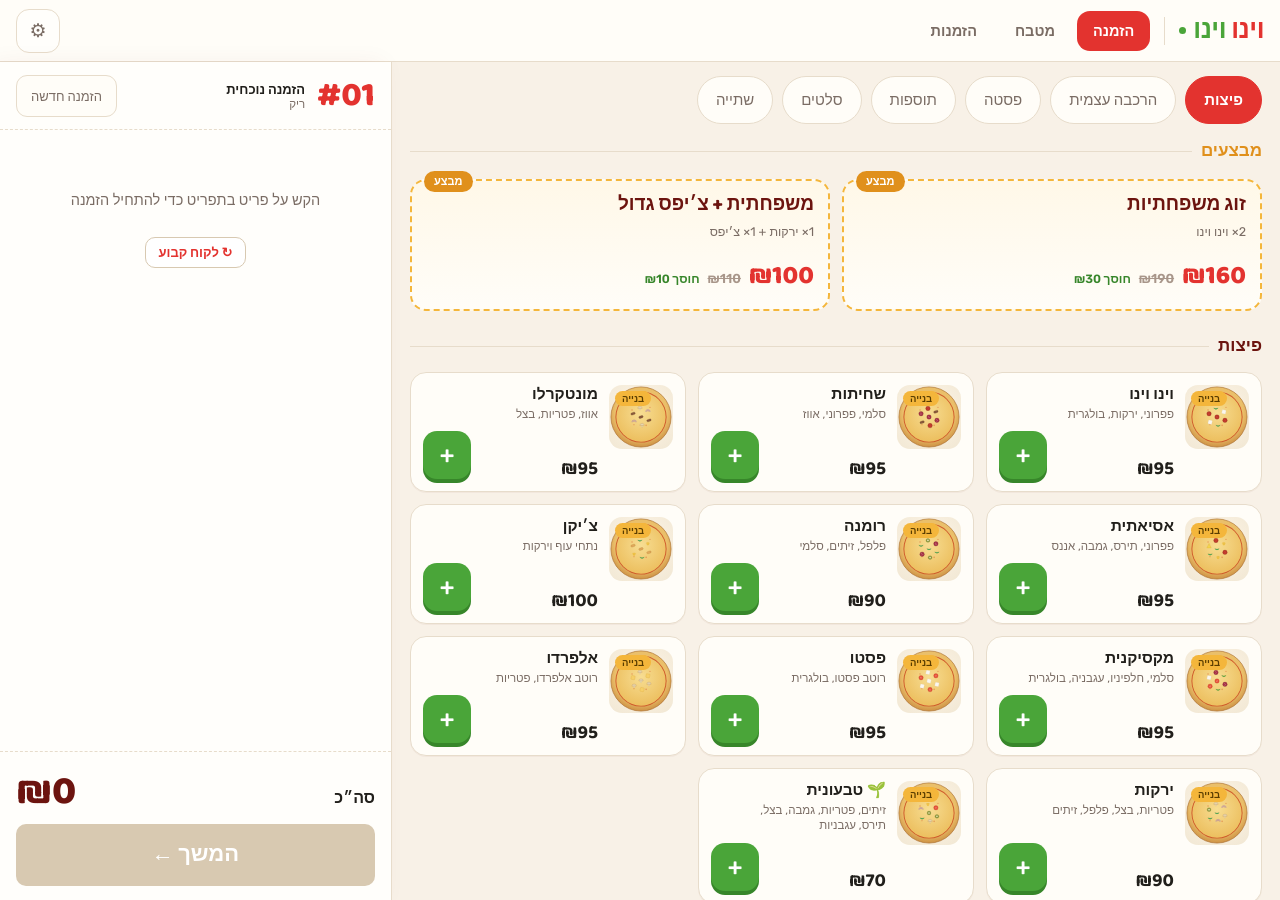
Test: quantity, merge and remove with undo › steps quantity up and down
This screenshot has width=1280, height=900.
Click the button "שתייה": click(735, 100) [697,76,773,124]
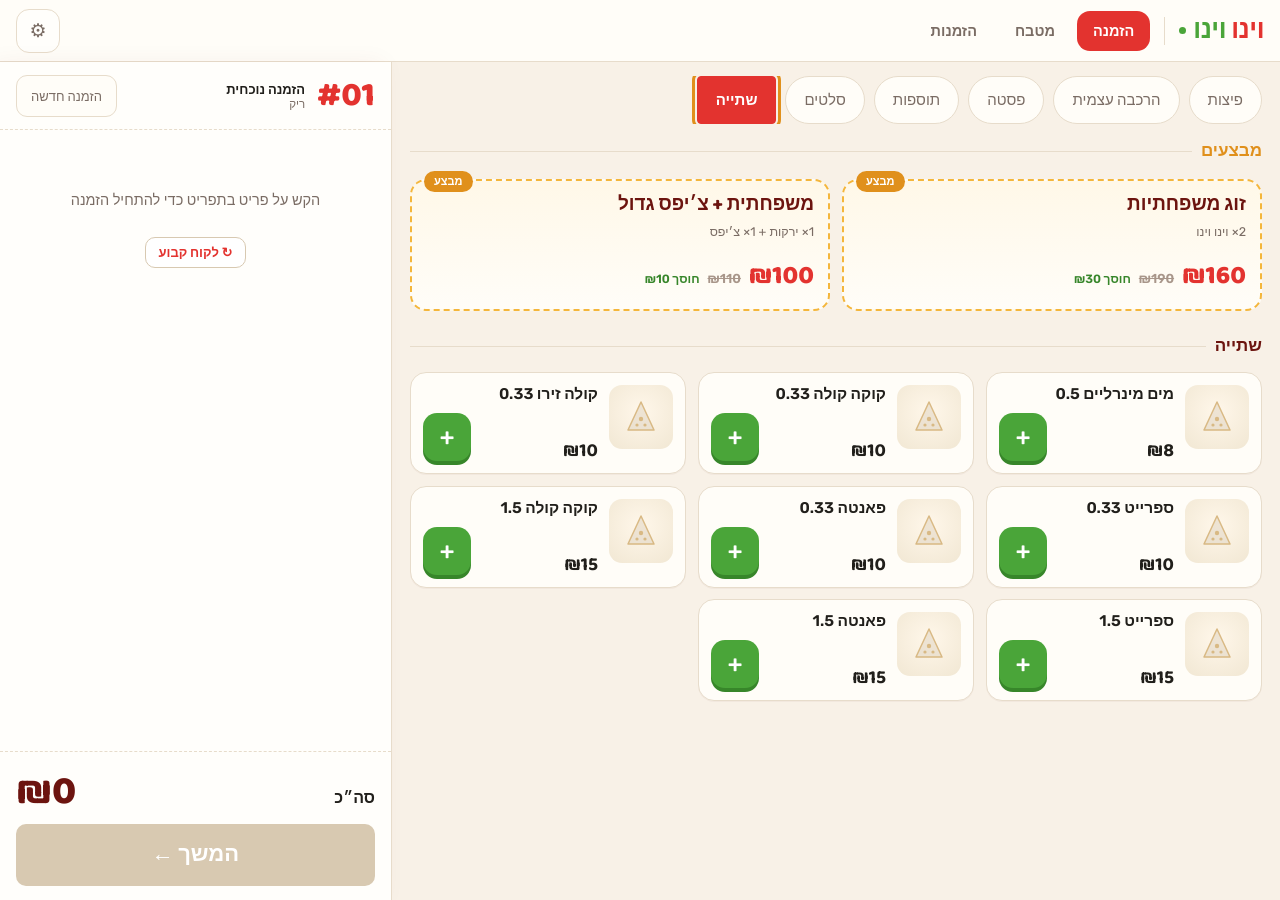
Click the button "פאנטה 0.33 ₪10 +": click(929, 531) [698,486,974,587]
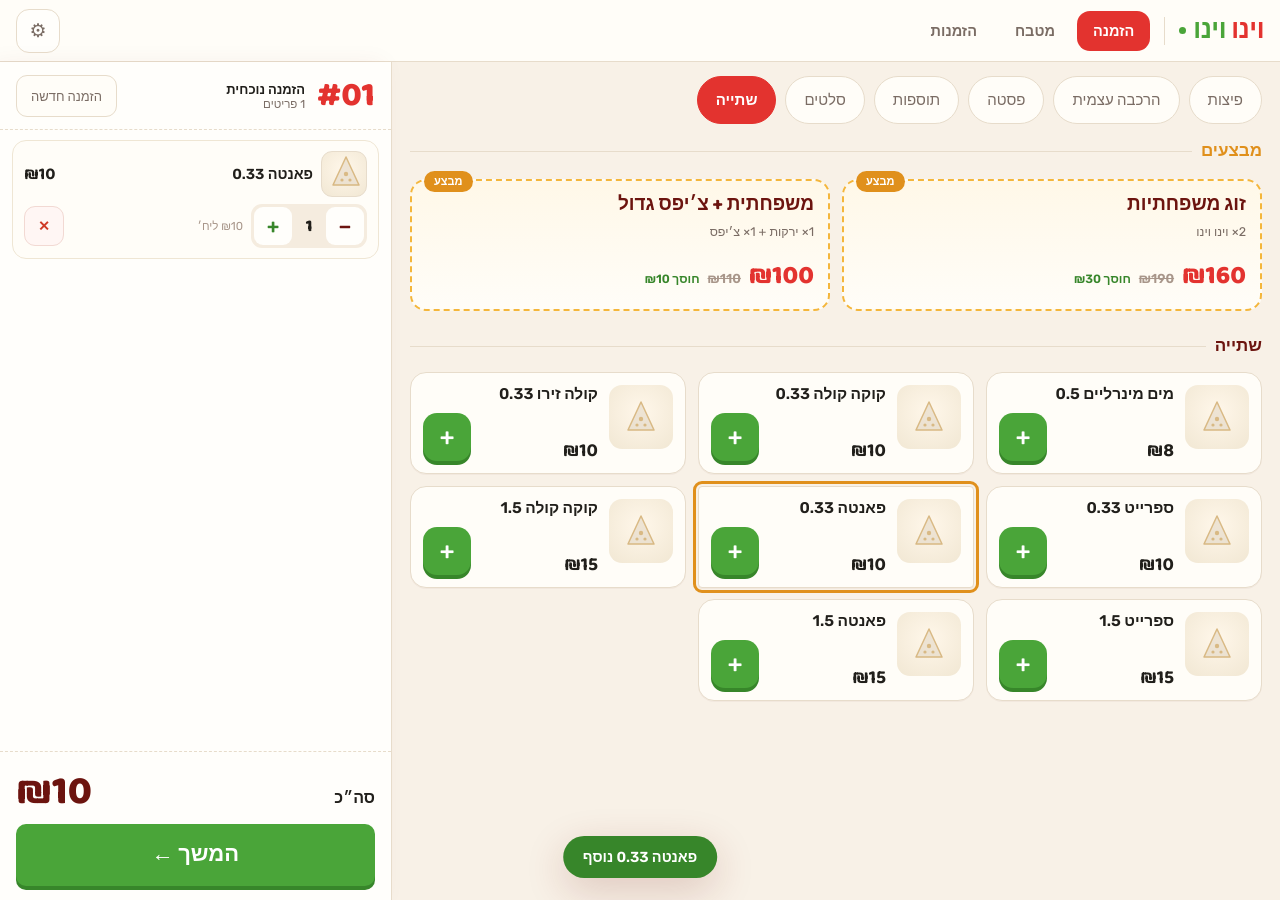
Click the button named "הוסף": click(273, 226) [254,207,292,245]
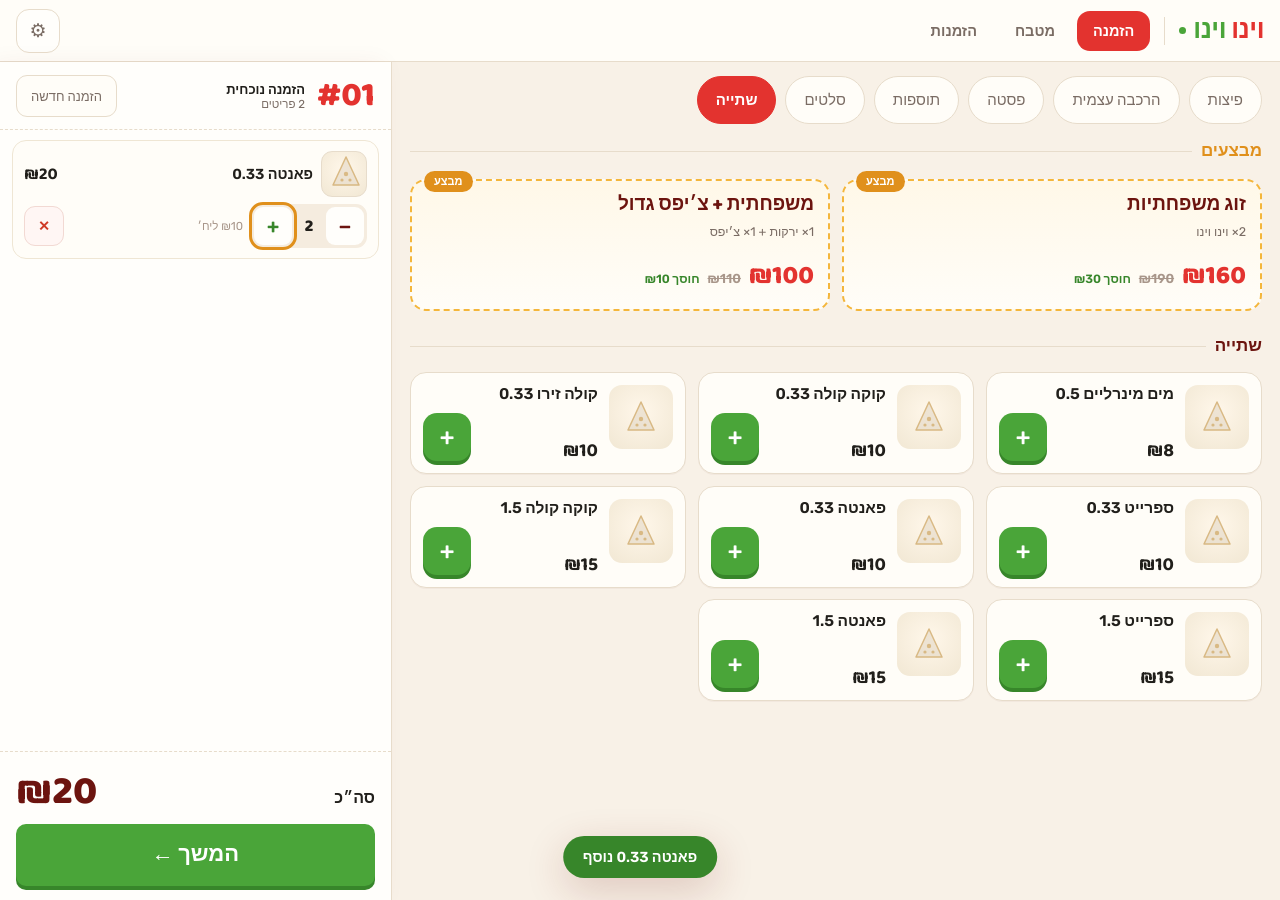
Check: the text with test id "ticket-total" reads "₪20", box [16,760,97,824]
Click the button named "הפחת": click(345, 226) [326,207,364,245]
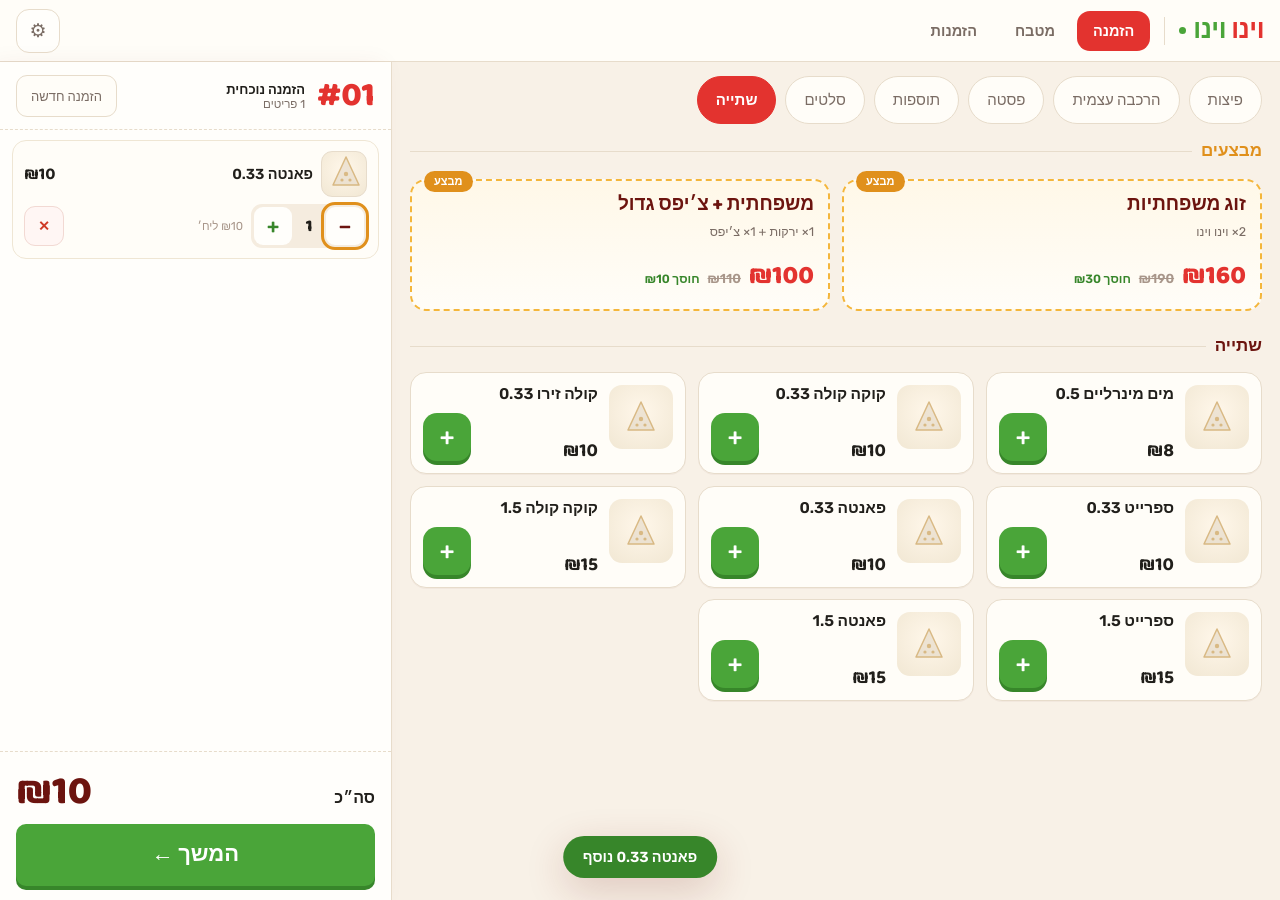
Check: the text with test id "ticket-total" reads "₪10", box [16,760,92,824]
